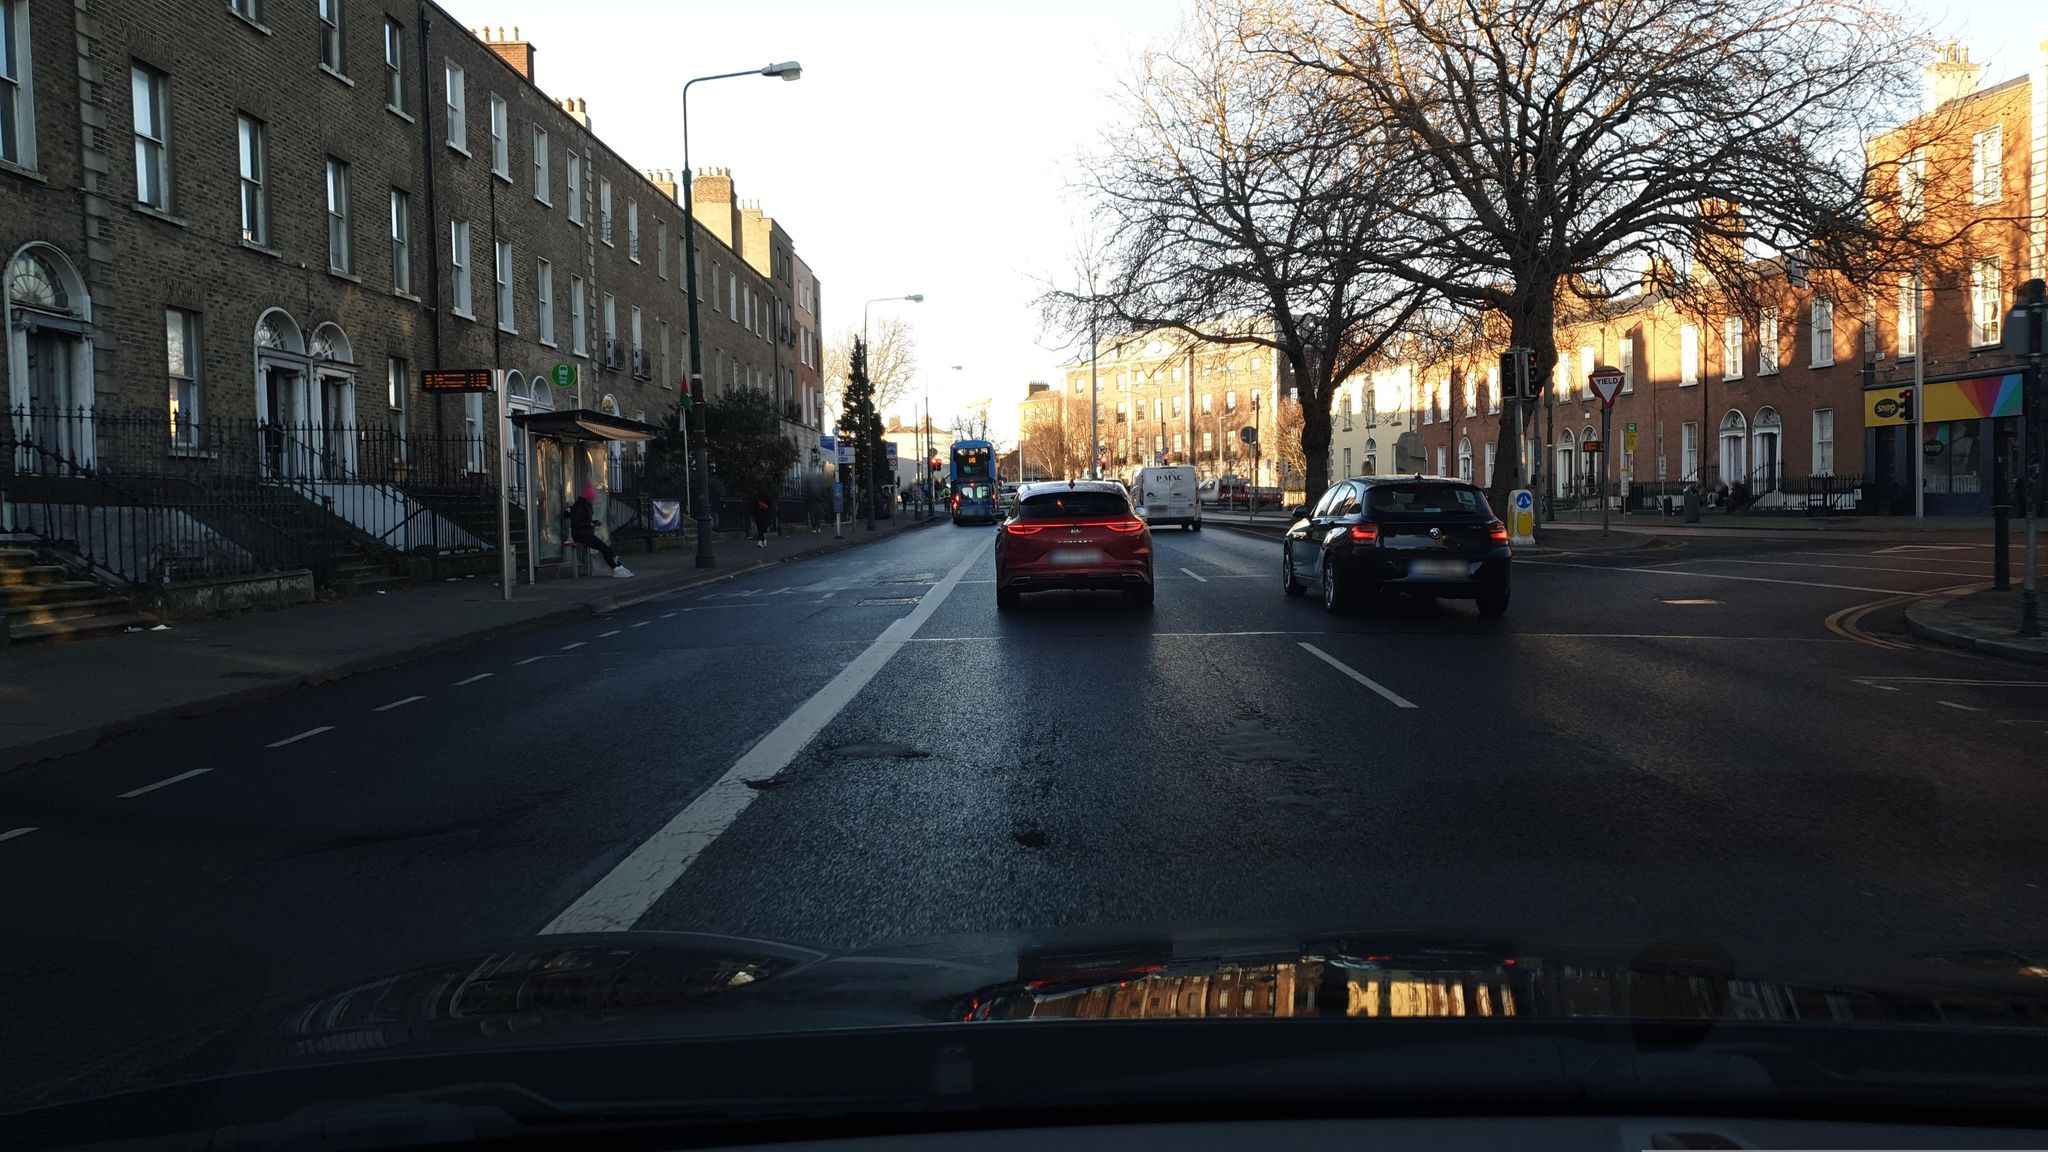vinyl banner: (647, 489, 691, 544)
